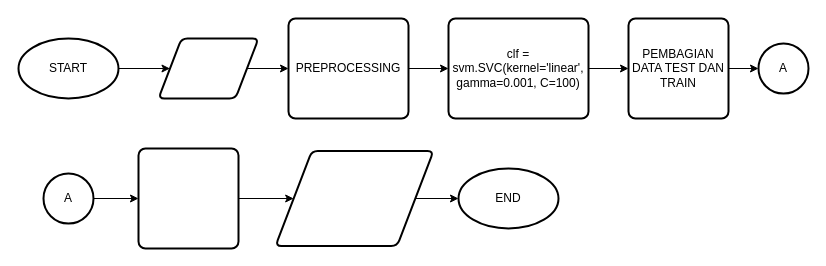
Some shapes in this 826 by 266 pixel diagram are drawn without their labels. Each missing label, with the centre of its shape:
"ACCURACY, PRECISION, RECALL" goes at point 354,198.
"DATASET" goes at point 208,68.
"MELATIH DATA TRAIN" goes at point 188,198.
